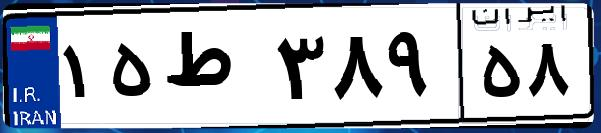1: (57, 26, 110, 100)
3: (270, 28, 330, 110)
5: (475, 38, 525, 113), (110, 28, 158, 98)
8: (330, 28, 385, 110), (525, 38, 570, 115)
9: (385, 28, 445, 110)
ط: (158, 20, 270, 120)
